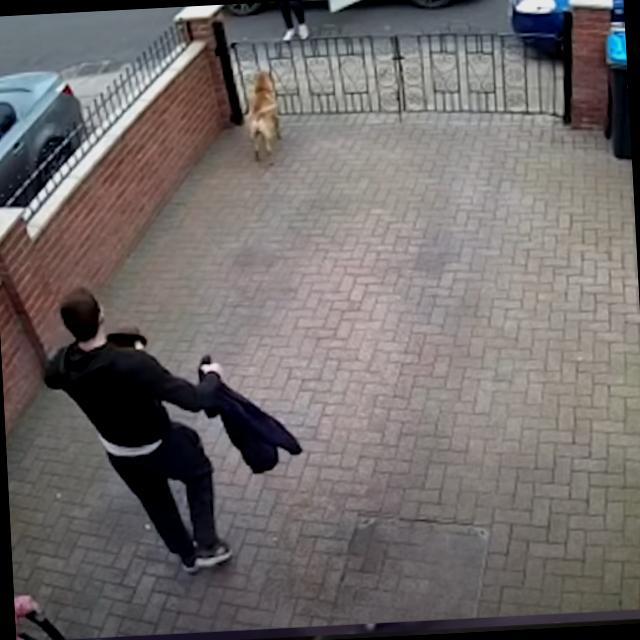person: (38, 281, 236, 578)
